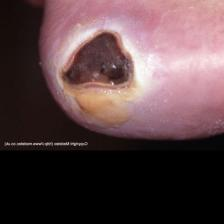Wound: (51, 19, 153, 136)
